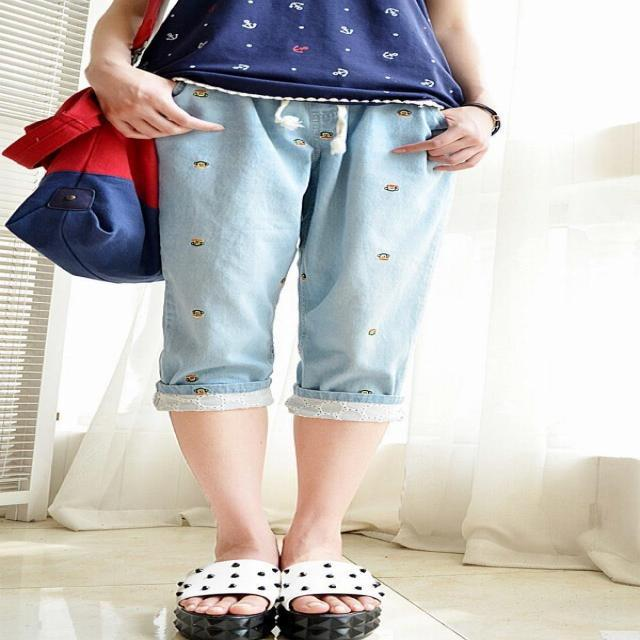trousers: (56, 54, 501, 450)
